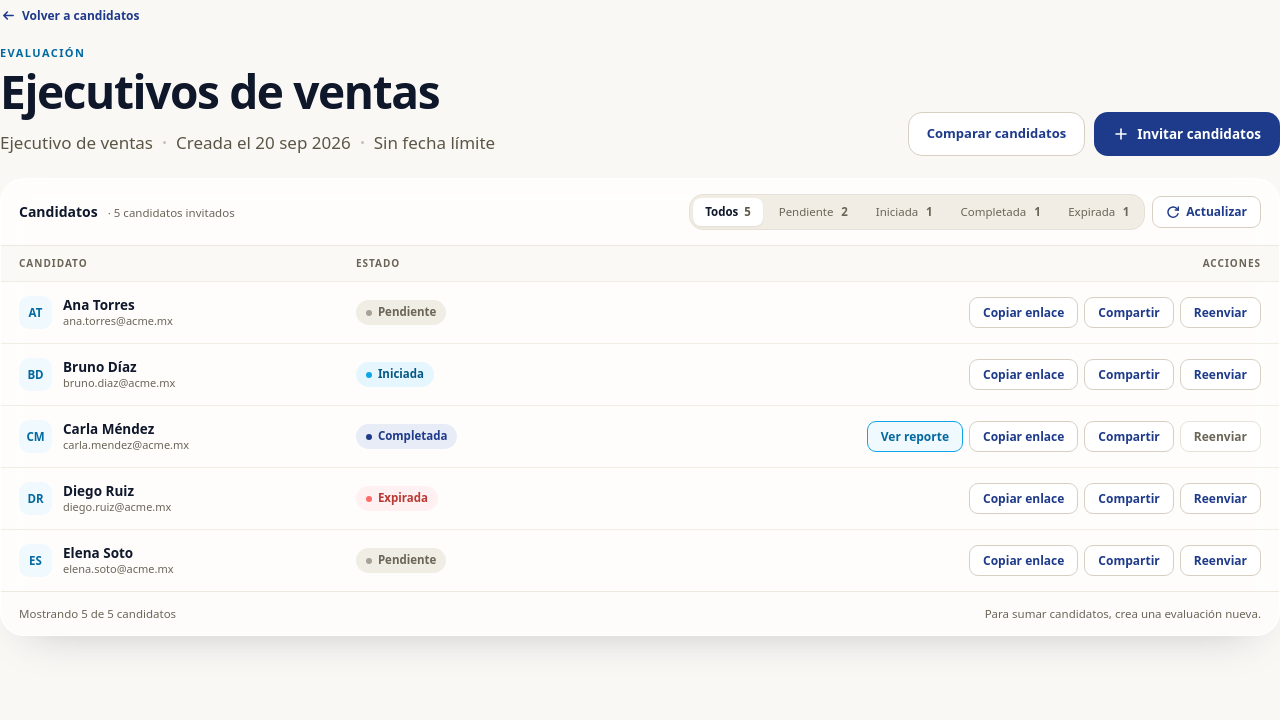
Test: EvaluacionDetallePage · copiar y compartir › el modal dice «Sin fecha límite» cuando la evaluación no tiene
The width and height of the screenshot is (1280, 720).
Expected: the text "Sin fecha límite" is shown, [374,130,495,156]
What coordinates should you click on to do the following:
click the button named "Compartir la invitación de Bruno Díaz"
I would click on:
 (1129, 375)
Its box is [1084,359,1174,390].
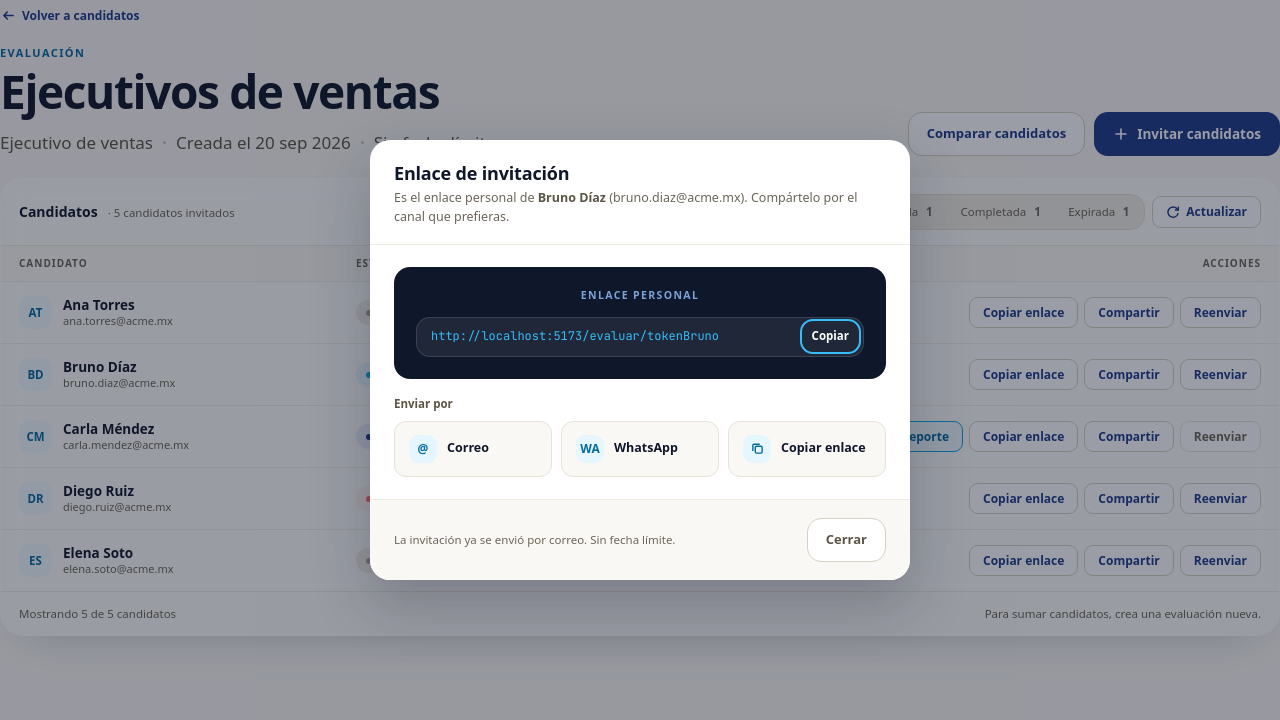
Result: the text "La invitación ya se envió por correo. Sin fecha límite." is shown at [394,532,676,547]
